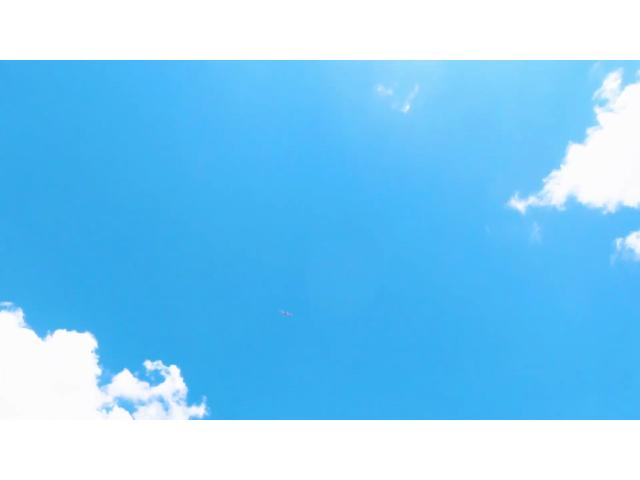Anti-Drone: (267, 308, 307, 324)
